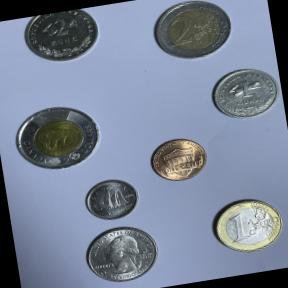1 Euro: (204, 191, 288, 260)
2 Euro: (145, 0, 240, 68)
Canda-10cent-: (78, 172, 144, 227)
Canda-2Dollar-: (4, 96, 108, 180)
Croatia-2Kune-: (17, 6, 105, 70)
US-1cent-: (142, 130, 213, 190)
US-25cent-: (74, 218, 166, 288)
